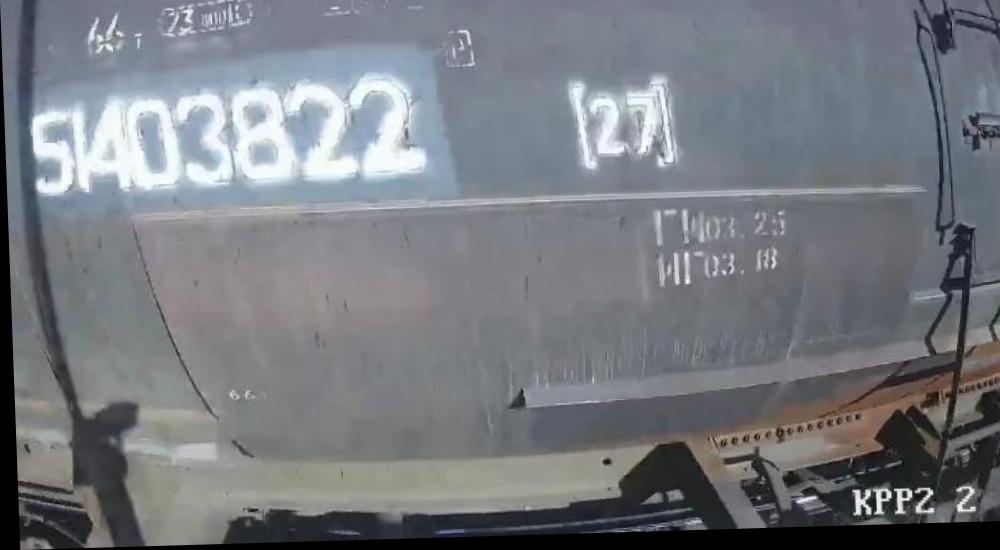Wagon-number: (20, 69, 438, 198)
